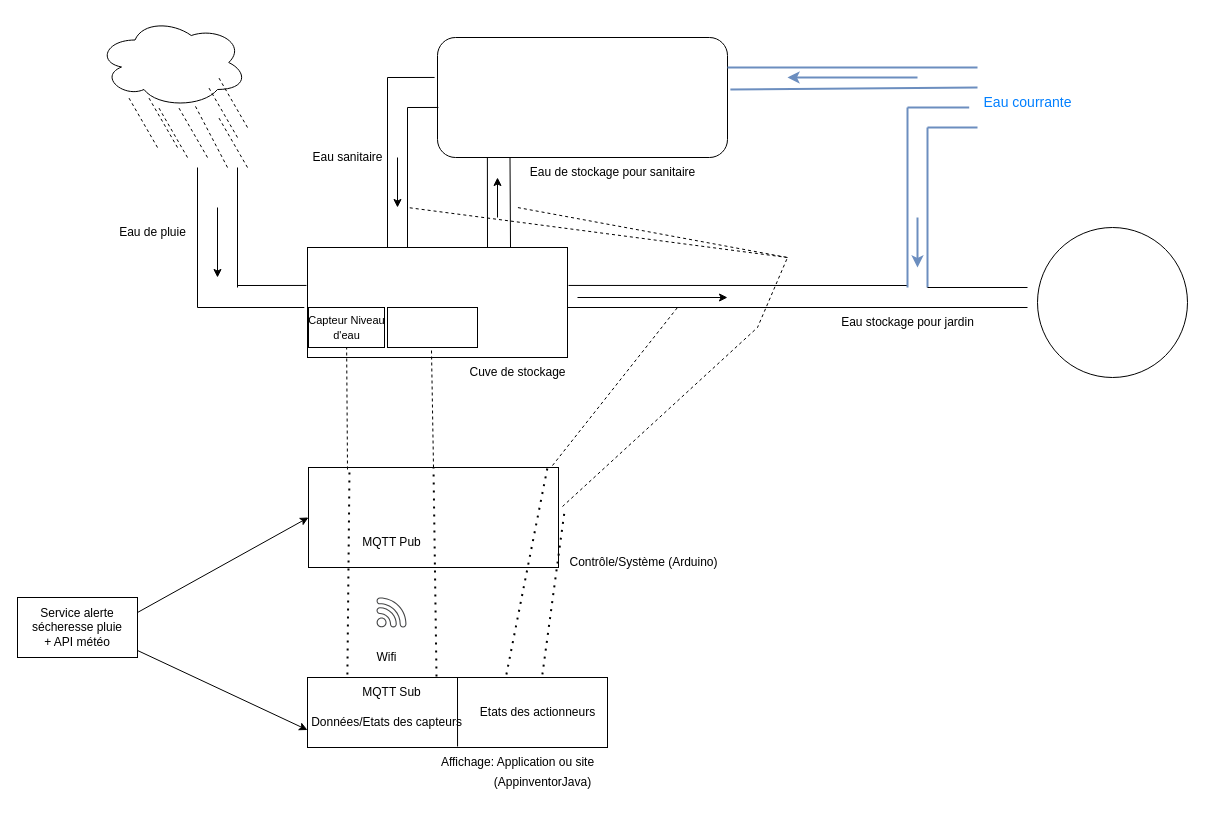
This 1205x815 diagram has some shape labels left out. Each missing label, with the centre of its shape:
"Capteur qualités d'eau" belongs at pixel 432 327.
"Jardin" belongs at pixel 1112 302.
